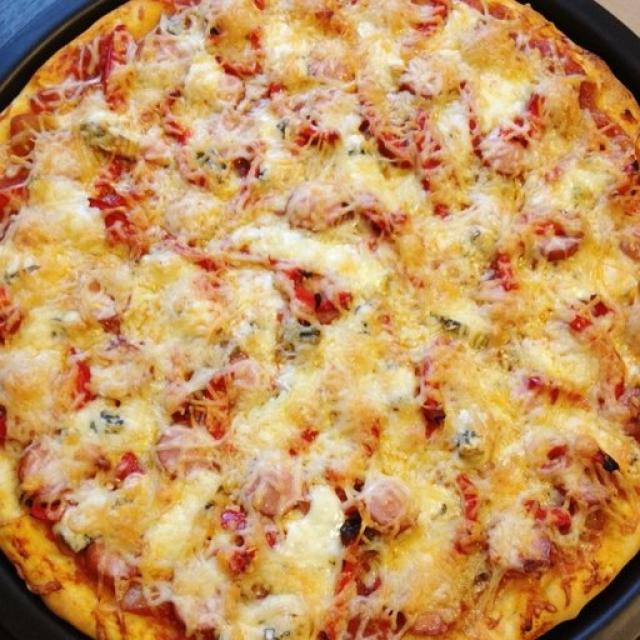Cheese: (147, 42, 538, 95), (136, 239, 276, 356), (34, 131, 98, 383), (413, 217, 481, 421), (302, 348, 414, 440), (85, 479, 198, 564), (294, 146, 406, 211), (498, 284, 570, 378), (396, 535, 466, 588), (553, 154, 607, 208)
Pizza: (0, 0, 640, 640)
